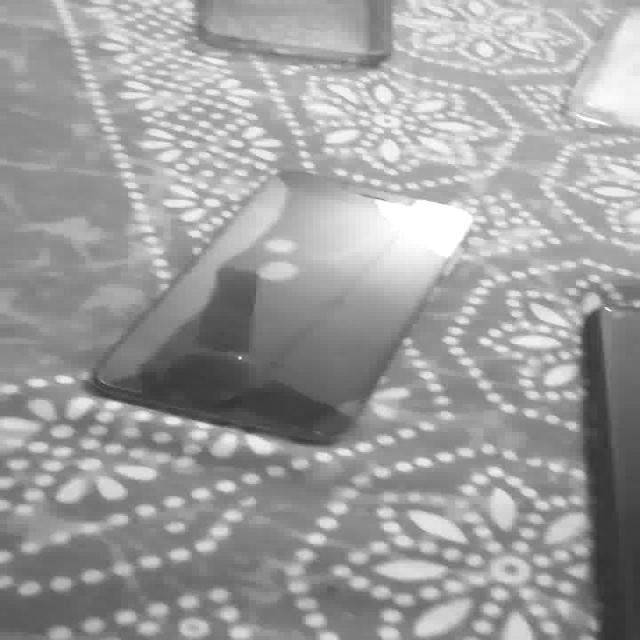fake: (92, 159, 478, 452), (578, 298, 640, 640)
